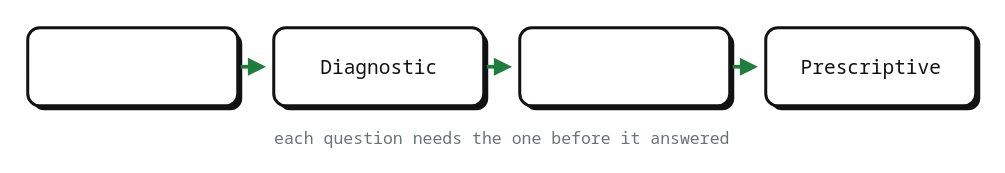
Image size: 1005x173. Some labels were removed from this diagram. The shapes that lost their labels are listed below. From the top down, each one's centre as x and y in pixels, then its label:
the point at 132,66: Descriptive
the point at 624,66: Predictive
